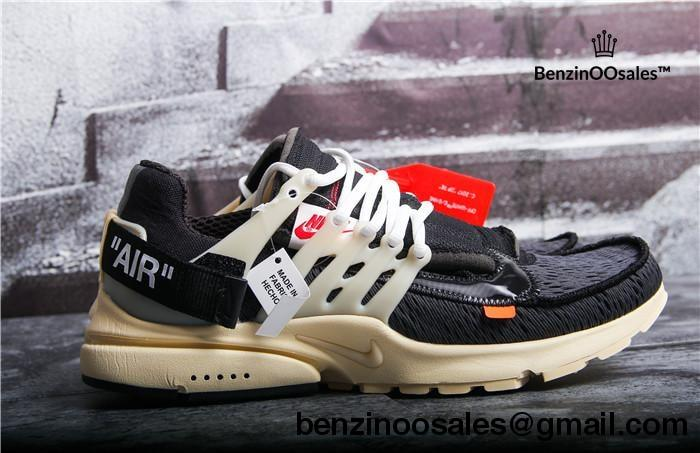Nike x OFF--WHITE Air Presto OG: (65, 107, 674, 404)
